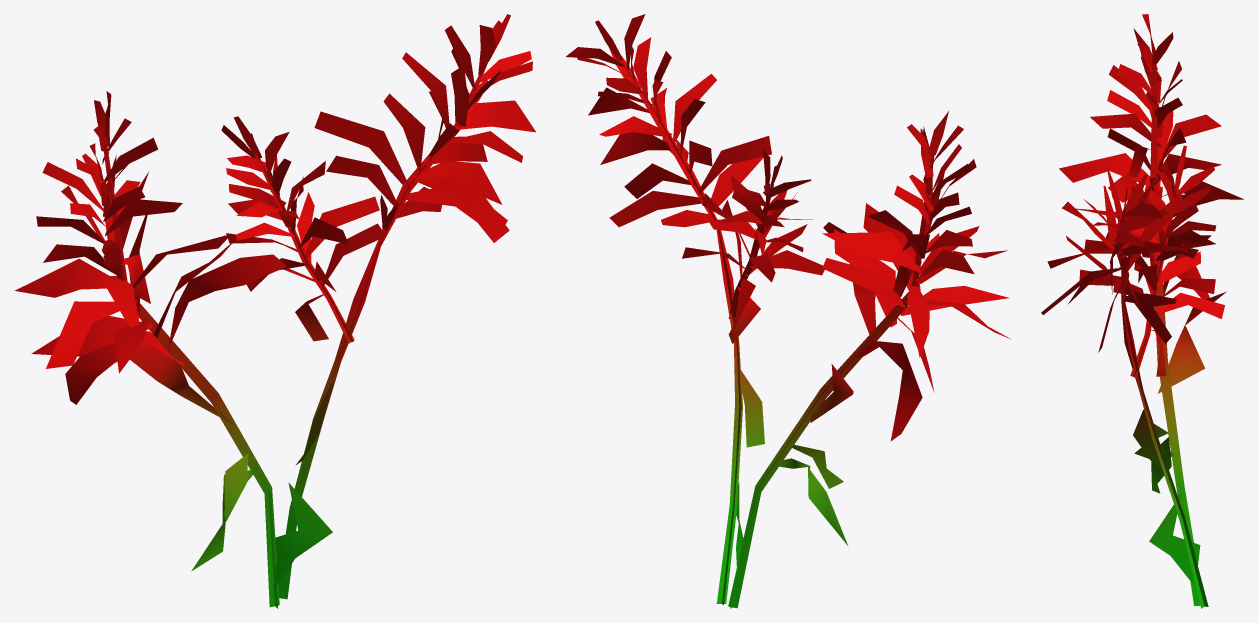
File: Var2_LOD1.fbx
3 renders of one model, left to right at view 1: azimuth 30°, elevation 25°; view 2: azimuth 150°, elevation 25°; view 3: azimuth 270°, elevation 25°, orthographic. The views are drawn at different scales.
Visible parts, largest first — view 1: _346a_Var2_LOD1; view 2: _346a_Var2_LOD1; view 3: _346a_Var2_LOD1.
Part boxes in pixels (left/top/right/bottom): _346a_Var2_LOD1: left=14, top=14, right=535, bottom=608; _346a_Var2_LOD1: left=566, top=14, right=1011, bottom=608; _346a_Var2_LOD1: left=1041, top=14, right=1243, bottom=608.
Bounding box in the file's own units: 33.99 × 39.13 × 14.26.
